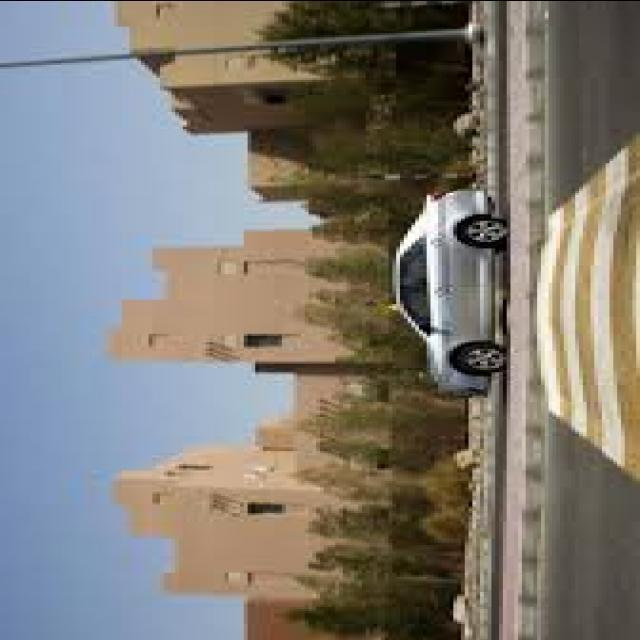speedbreaker: (539, 177, 640, 429)
